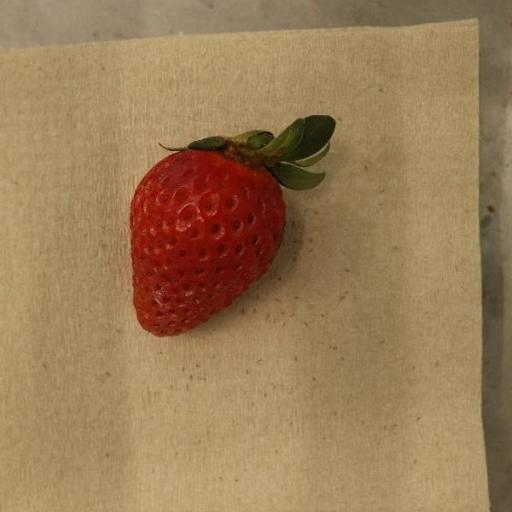Strawberry: (129, 115, 337, 338)
